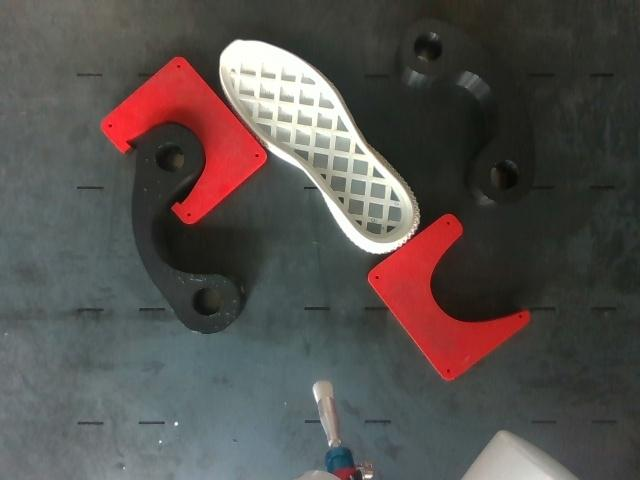shoes: (221, 40, 414, 244)
